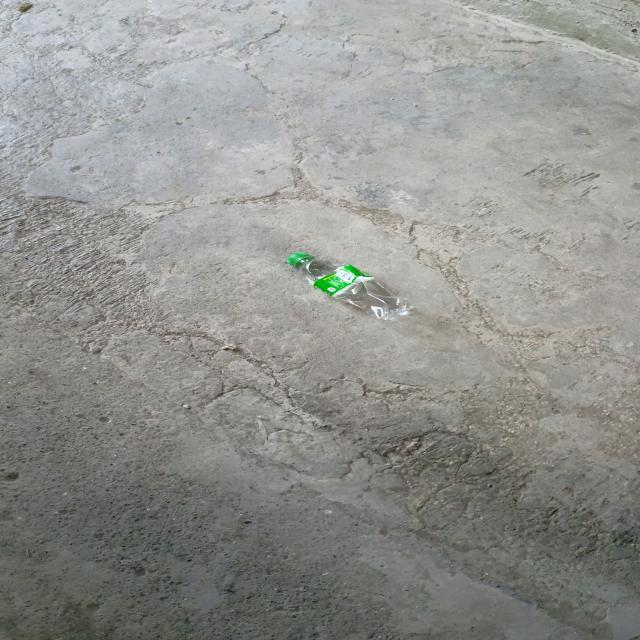Bottle: (286, 252, 412, 323)
